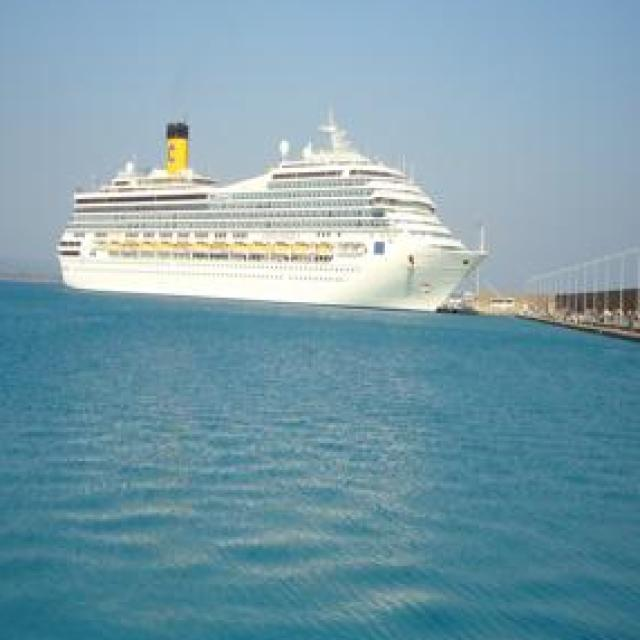passenger ship: (52, 103, 482, 314)
